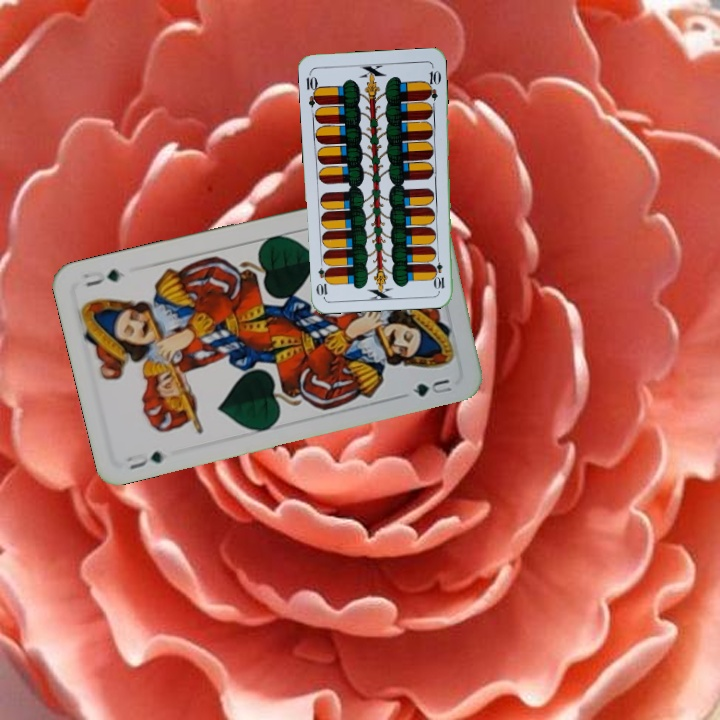E10: (302, 69, 323, 109), (431, 251, 447, 292)
GU: (122, 447, 167, 472)
